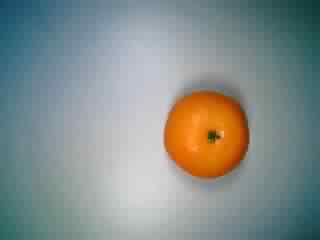orange: (157, 82, 252, 184)
